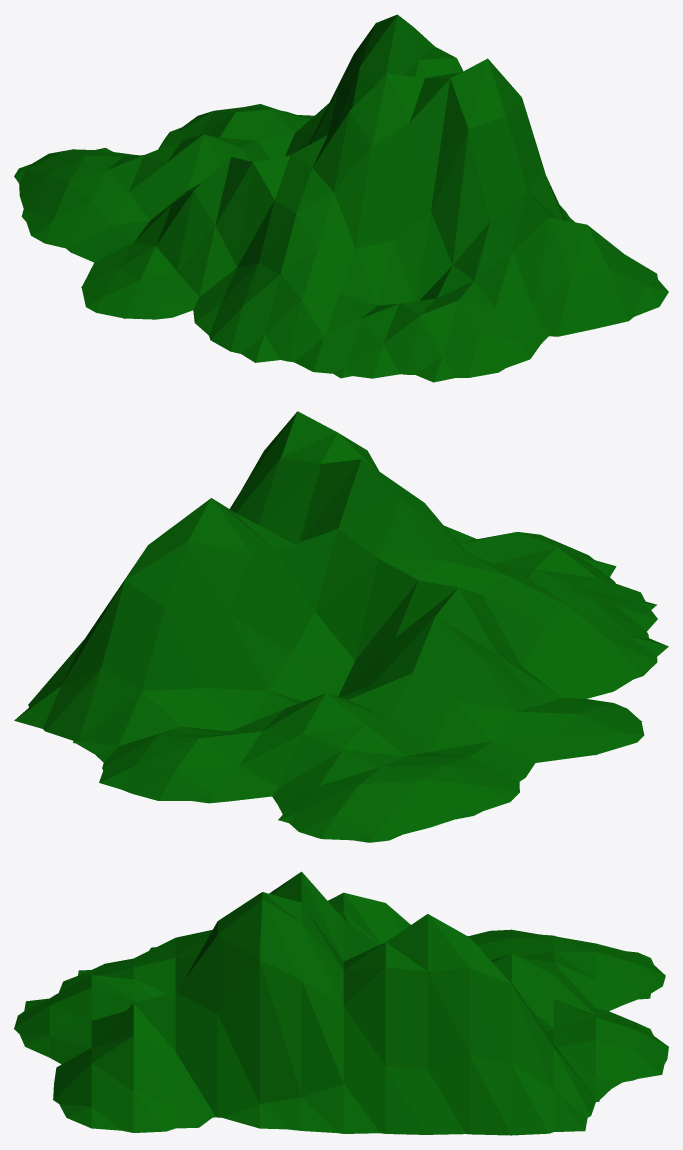
File: Proto_Terrain_Mound_03.fbx
3 views of the same model, one above another, from view 1: azimuth 30°, elevation 25°; view 2: azimuth 150°, elevation 25°; view 3: azimuth 270°, elevation 25° (orthographic). The views are drawn at different scales.
Parts seen in each view (by area): view 1: Proto_Terrain_Mound_03; view 2: Proto_Terrain_Mound_03; view 3: Proto_Terrain_Mound_03.
Part boxes in pixels (x1=…): Proto_Terrain_Mound_03: x1=14, y1=14, x2=668, y2=382; Proto_Terrain_Mound_03: x1=14, y1=411, x2=668, y2=842; Proto_Terrain_Mound_03: x1=14, y1=871, x2=668, y2=1135.
Size of the model in its own units: 9.48 by 3.72 by 11.88.
